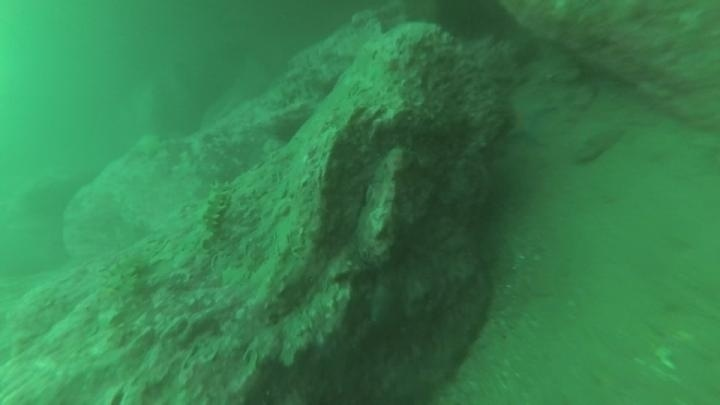echinus: (431, 1, 510, 45)
holothurian: (95, 252, 147, 318), (195, 180, 233, 250)
starfish: (503, 93, 557, 148)
